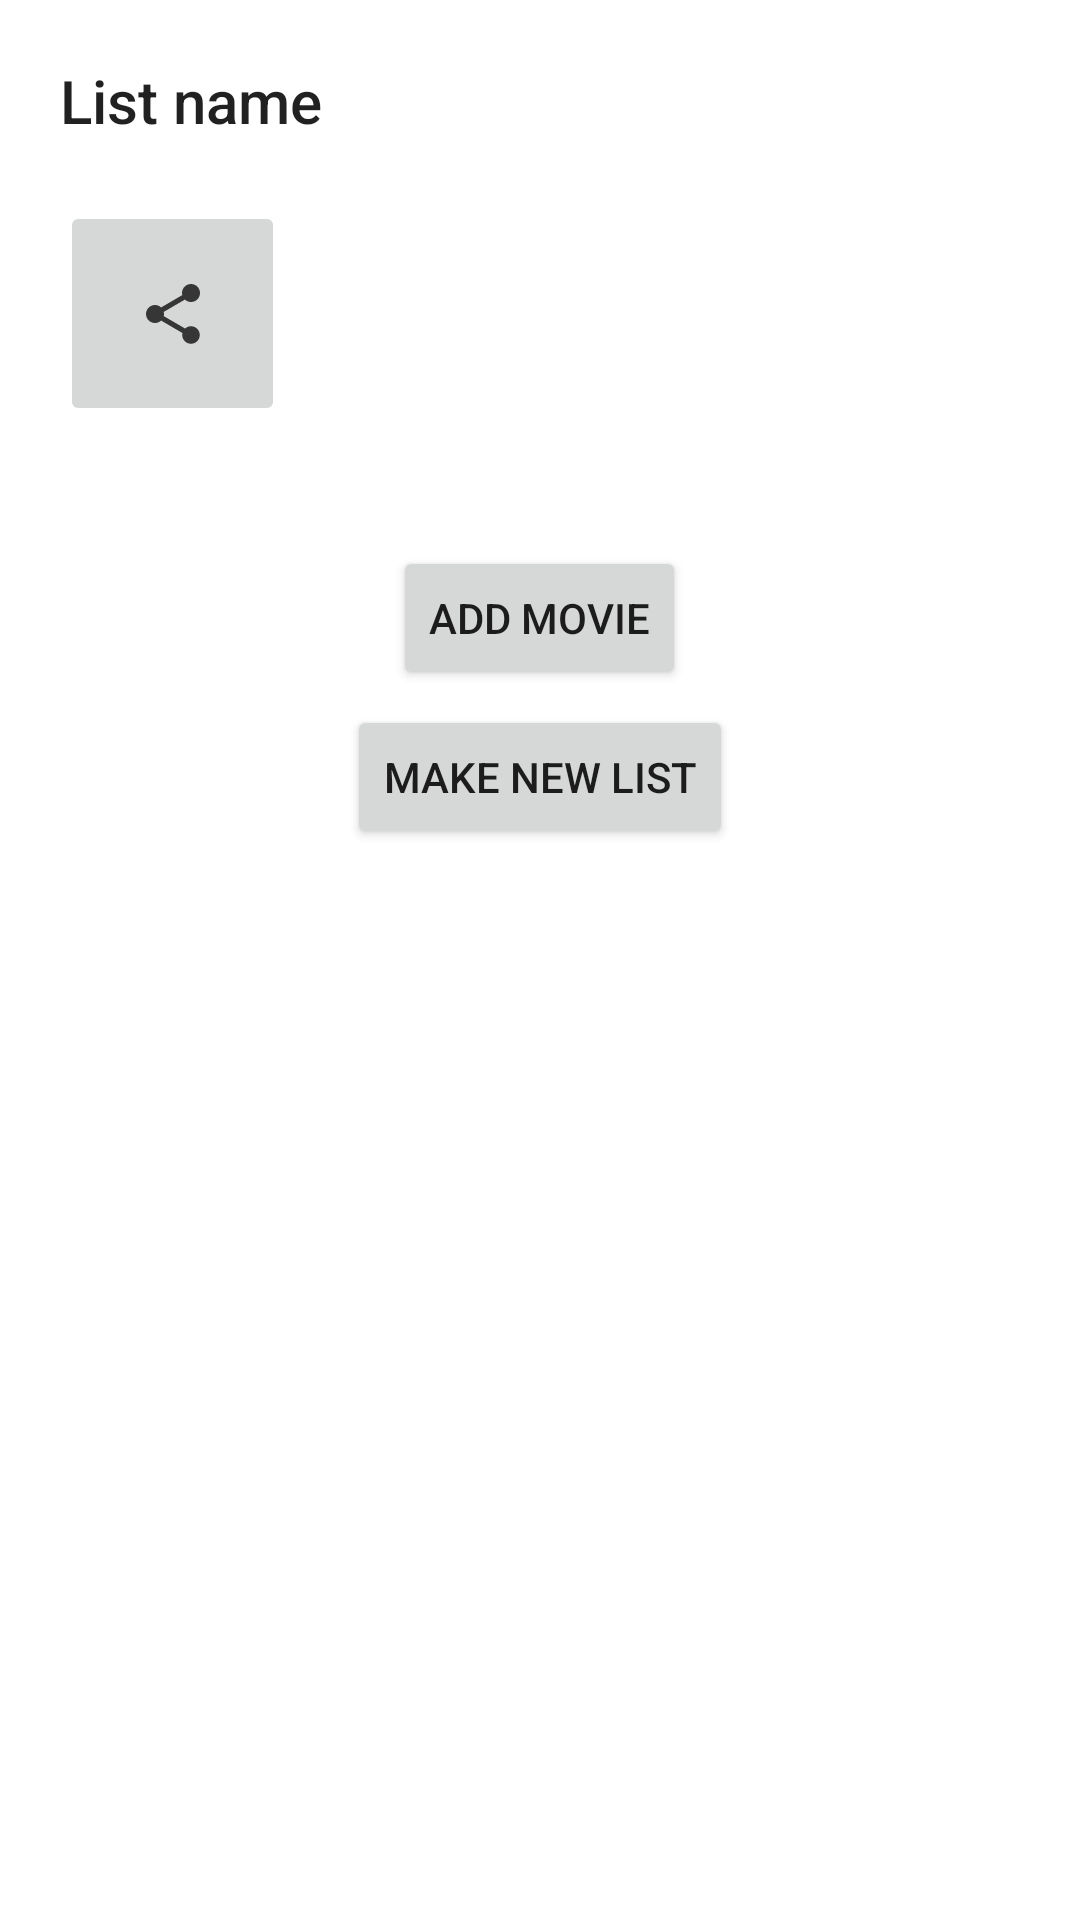

Point at icon controls on the screen. Image size 1080px x 1920px, points as [x,y].
share: [172,313]
